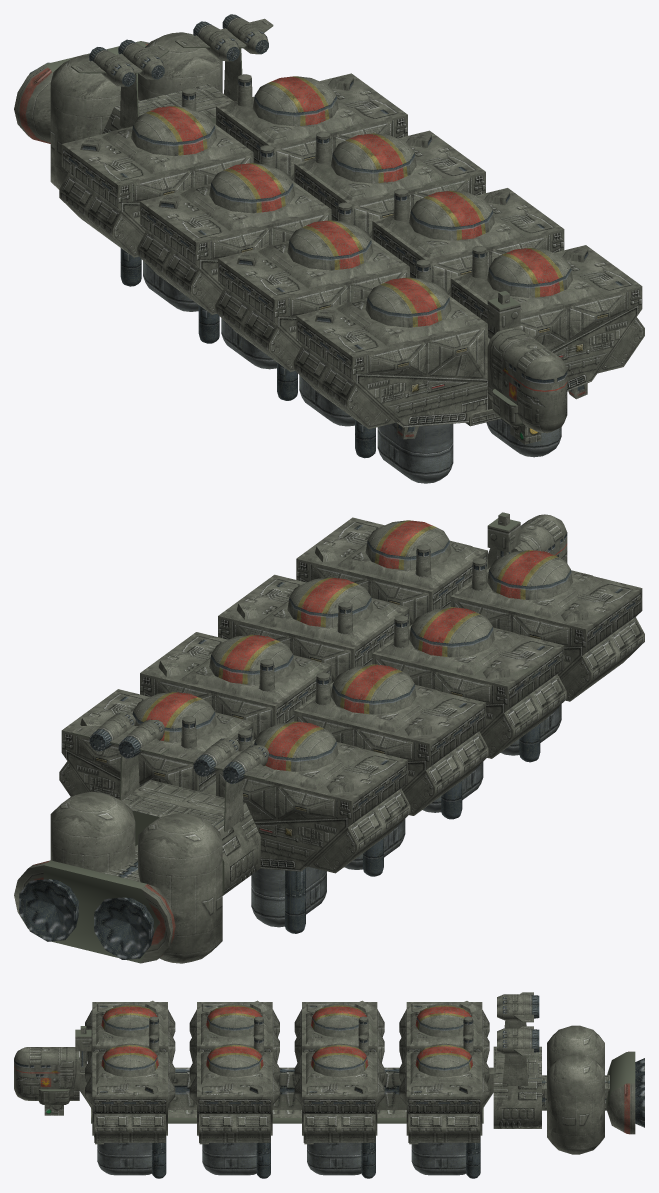
The model's file is Refinery Ship.dae.
The picture shows the model from 3 angles, top to bottom: view 1: azimuth 30°, elevation 25°; view 2: azimuth 150°, elevation 25°; view 3: azimuth 270°, elevation 25°; orthographic projection. The views are drawn at different scales.
Visible parts, largest first — view 1: colrefn1co_1 (×55); view 2: colrefn1co_1 (×58); view 3: colrefn1co_1 (×68).
Boxes of the visible parts, bbox=[...] form: colrefn1co_1 (×55): bbox=[14, 14, 644, 483]; colrefn1co_1 (×58): bbox=[19, 514, 644, 963]; colrefn1co_1 (×68): bbox=[14, 994, 644, 1178].
Size of the model in its own units: 6494 by 17787 by 4308.
